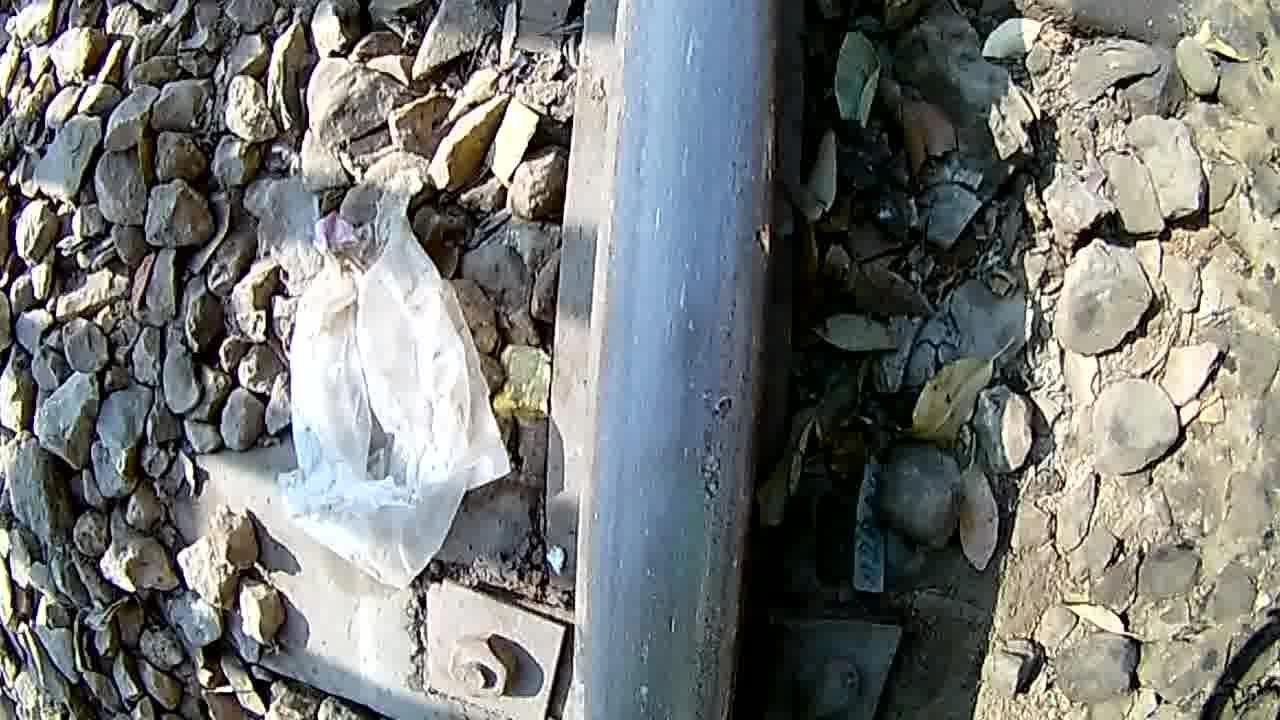crack: (571, 3, 780, 720)
